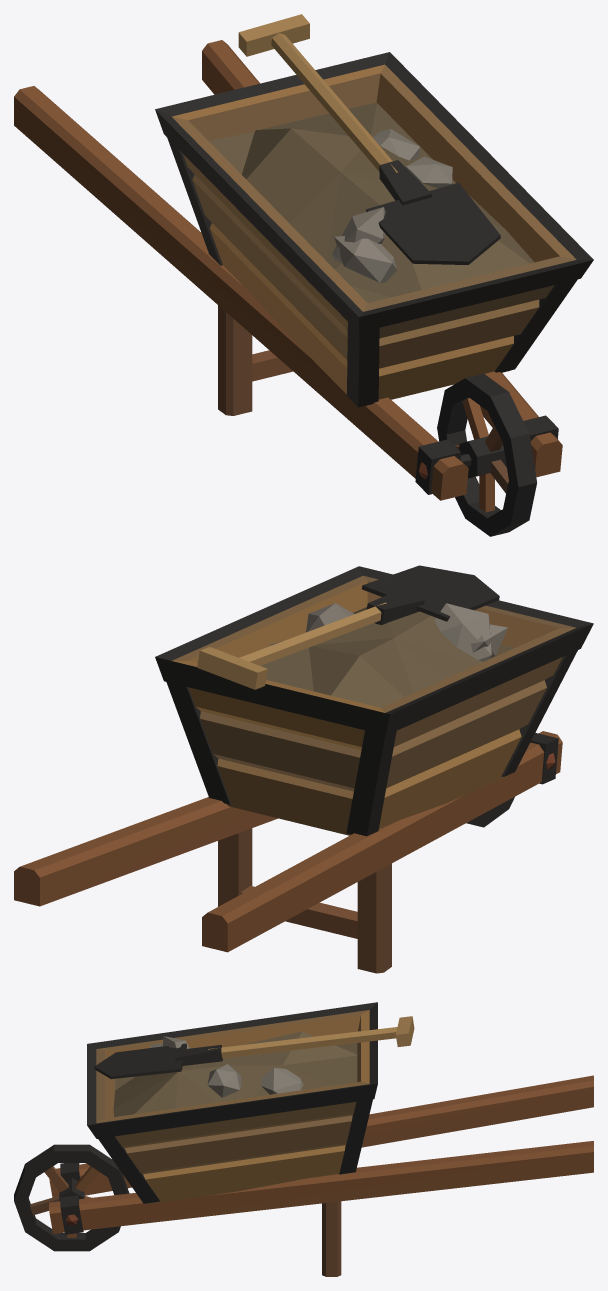
File: ore-barrow-3e2464.glb
3 renders of one model, top to bottom at view 1: azimuth 30°, elevation 25°; view 2: azimuth 150°, elevation 25°; view 3: azimuth 270°, elevation 25°, orthographic. The views are drawn at different scales.
Visible parts, largest first — view 1: barrow-body, ore-load, shovel-mesh, wheel-mesh; view 2: barrow-body, ore-load, shovel-mesh; view 3: barrow-body, ore-load, wheel-mesh, shovel-mesh.
Part boxes in pixels (bbox=[...]): barrow-body: bbox=[14, 40, 593, 500]; ore-load: bbox=[209, 102, 534, 302]; shovel-mesh: bbox=[238, 14, 500, 264]; wheel-mesh: bbox=[437, 373, 537, 536]; barrow-body: bbox=[14, 566, 593, 973]; ore-load: bbox=[261, 603, 514, 707]; shovel-mesh: bbox=[197, 565, 499, 689]; barrow-body: bbox=[49, 1002, 593, 1276]; ore-load: bbox=[113, 1031, 357, 1116]; wheel-mesh: bbox=[14, 1144, 129, 1251]; shovel-mesh: bbox=[94, 1016, 414, 1079].
Size of the model in its own units: 0.5 by 0.6628 by 1.5.
